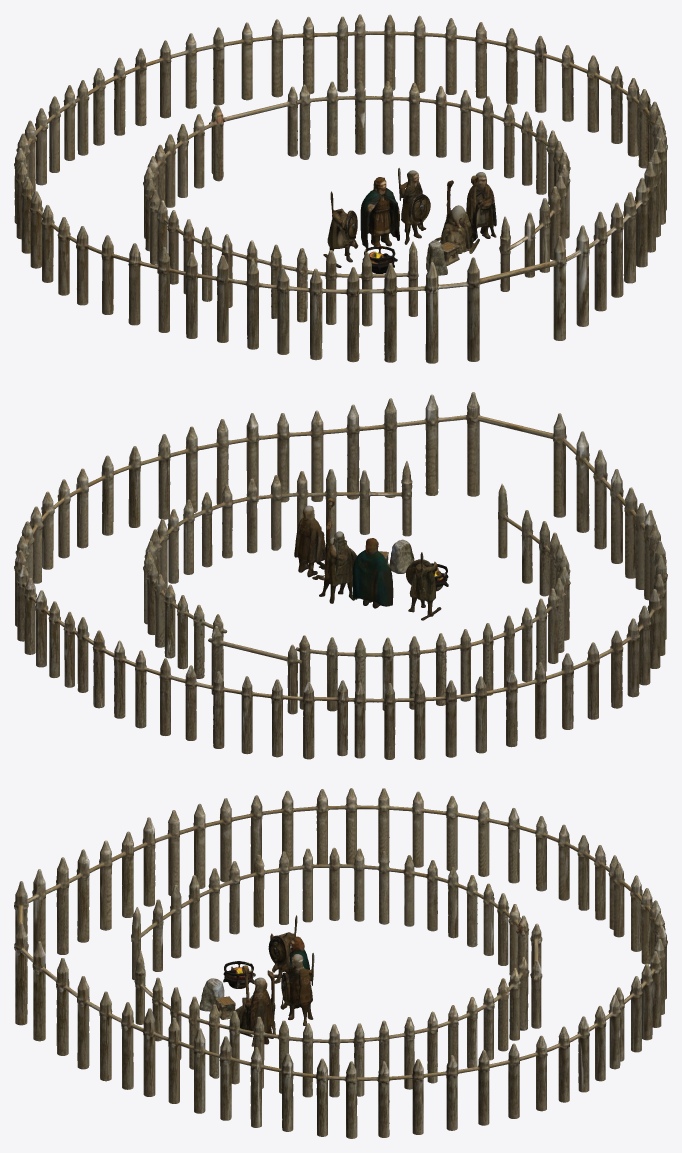
The model's file is 3pallisade.glb.
3 views of the same model, one above another, from view 1: azimuth 30°, elevation 25°; view 2: azimuth 150°, elevation 25°; view 3: azimuth 270°, elevation 25° (orthographic).
Visible parts, largest first — view 1: Mesh_0; view 2: Mesh_0; view 3: Mesh_0.
Part boxes in pixels (box(x1,y1,x2,y2)): Mesh_0: box(14, 14, 667, 363); Mesh_0: box(14, 392, 667, 759); Mesh_0: box(14, 788, 667, 1138).
Bounding box in the file's own units: 27.92 × 5 × 27.68.
1 material, 1 textured.
